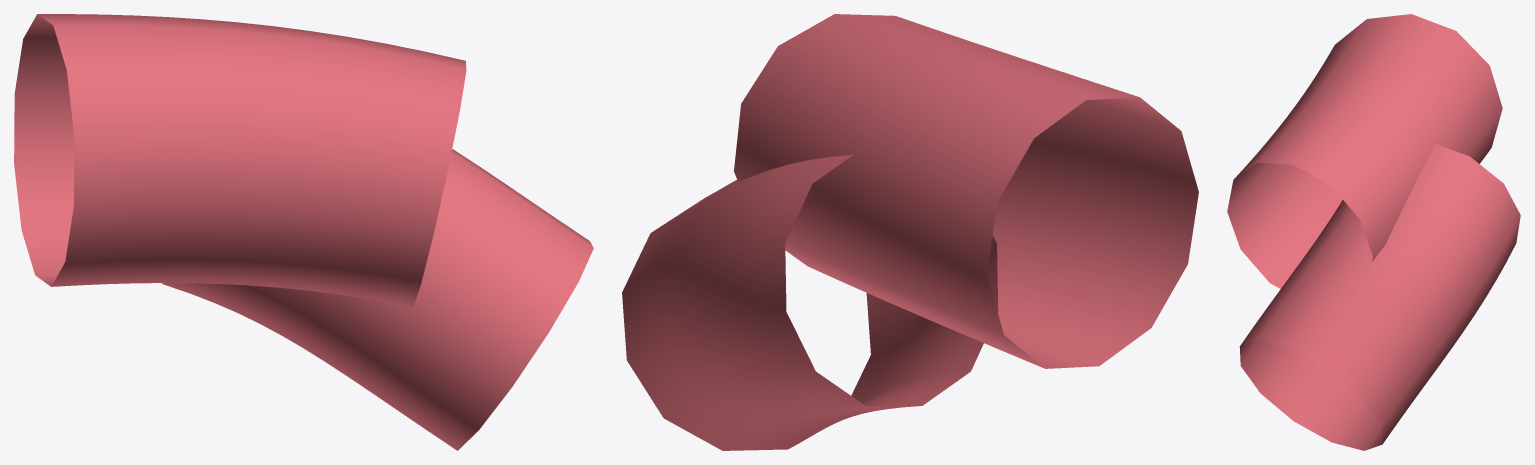
3 renders of one model, left to right at view 1: azimuth 30°, elevation 25°; view 2: azimuth 150°, elevation 25°; view 3: azimuth 270°, elevation 25°, orthographic. The views are drawn at different scales.
Parts seen in each view (by area): view 1: ZA_db74af0e9c29a972; view 2: ZA_db74af0e9c29a972; view 3: ZA_db74af0e9c29a972.
Boxes of the visible parts, left/top/right/bottom form: ZA_db74af0e9c29a972: left=14, top=14, right=593, bottom=450; ZA_db74af0e9c29a972: left=622, top=14, right=1198, bottom=450; ZA_db74af0e9c29a972: left=1227, top=14, right=1520, bottom=450.
Bounding box in the file's own units: 0.0143 × 0.012 × 0.0102.
